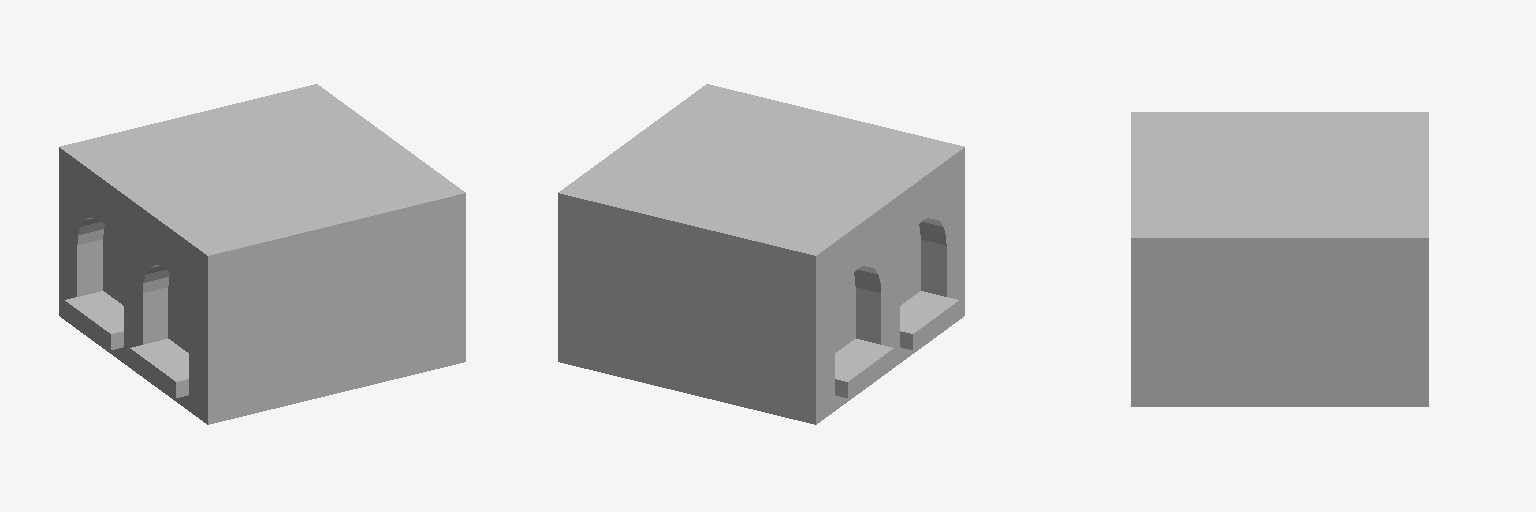
3 renders of one model, left to right at view 1: azimuth 30°, elevation 25°; view 2: azimuth 150°, elevation 25°; view 3: azimuth 270°, elevation 25°, orthographic.
Parts seen in each view (by area): view 1: G-__555825_G-__555825_Brick, G-__555825_G-__555825_Glass; view 2: G-__555825_G-__555825_Brick, G-__555825_G-__555825_Glass; view 3: G-__555825_G-__555825_Brick.
Boxes of the visible parts, box(x1,y1,x2,y2) form: G-__555825_G-__555825_Brick: box(59, 84, 465, 424); G-__555825_G-__555825_Glass: box(103, 225, 188, 352); G-__555825_G-__555825_Brick: box(558, 84, 964, 424); G-__555825_G-__555825_Glass: box(835, 225, 920, 352); G-__555825_G-__555825_Brick: box(1131, 112, 1428, 406).
Size of the model in its own units: 1.05 by 0.625 by 1.